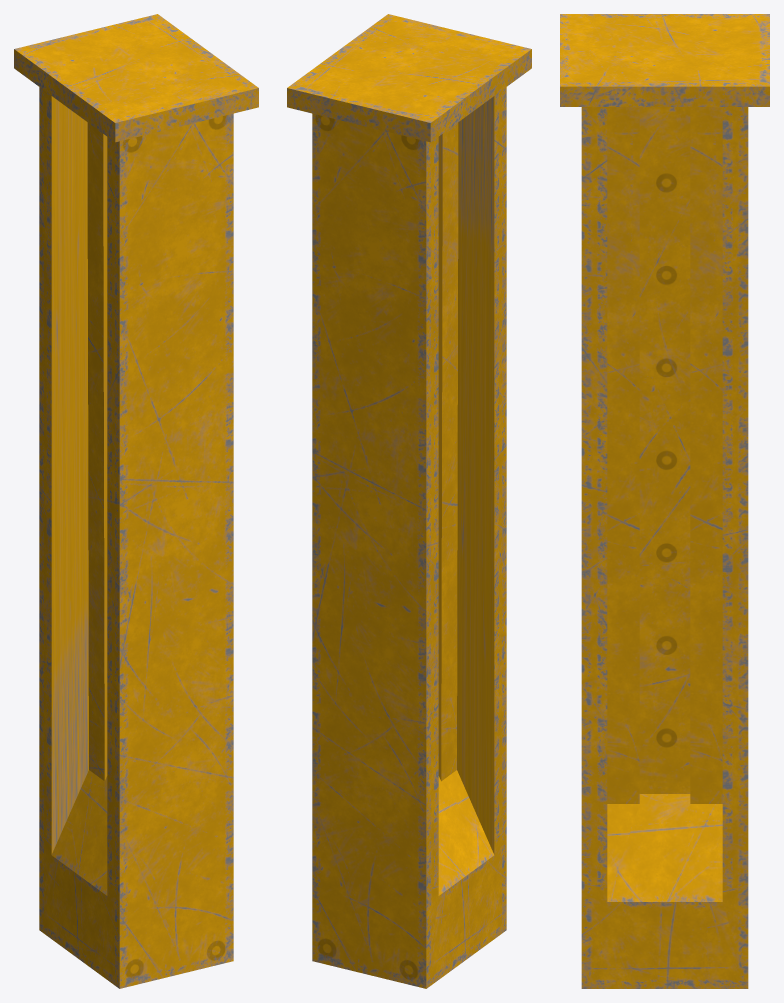
Rendered from Pillar_01.fbx.
3 views of the same model, side by side, from view 1: azimuth 30°, elevation 25°; view 2: azimuth 150°, elevation 25°; view 3: azimuth 270°, elevation 25° (orthographic). The views are drawn at different scales.
Visible parts, largest first — view 1: Pillar_01; view 2: Pillar_01; view 3: Pillar_01.
Part boxes in pixels (x1,y1,x2,y2): Pillar_01: (14, 14, 258, 988); Pillar_01: (287, 14, 531, 988); Pillar_01: (560, 14, 769, 988).
Size of the model in its own units: 43.87 by 256 by 53.46.
